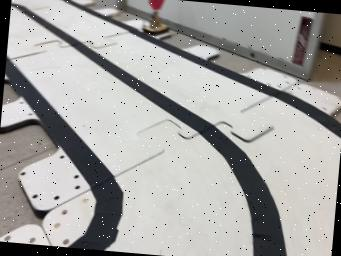stop: (142, 0, 171, 34)
street: (4, 0, 341, 256)
